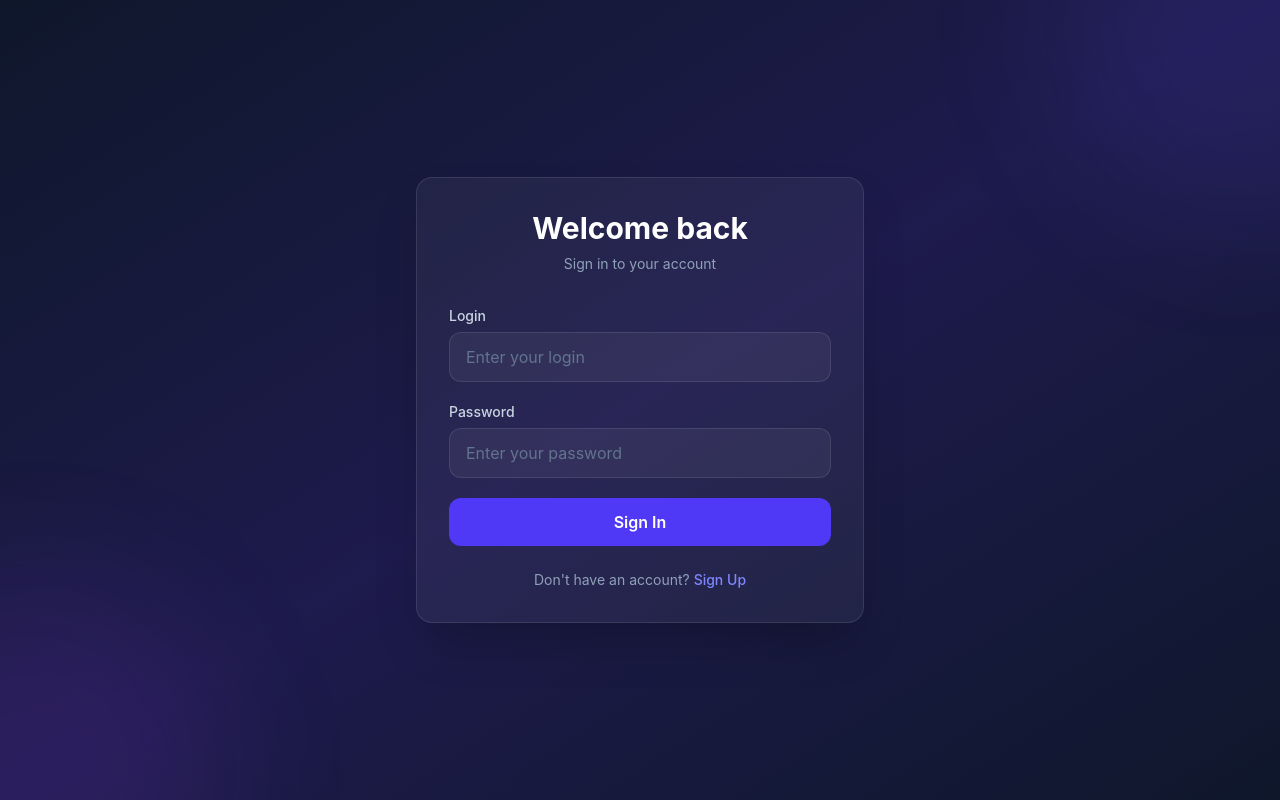
Auth Flow › shows validation errors when submitting empty sign-in form
Expected: the heading "Welcome back" is shown, [532, 210, 748, 246]
Click the button with test id "signin-submit" at (640, 522), box [449, 498, 831, 546]
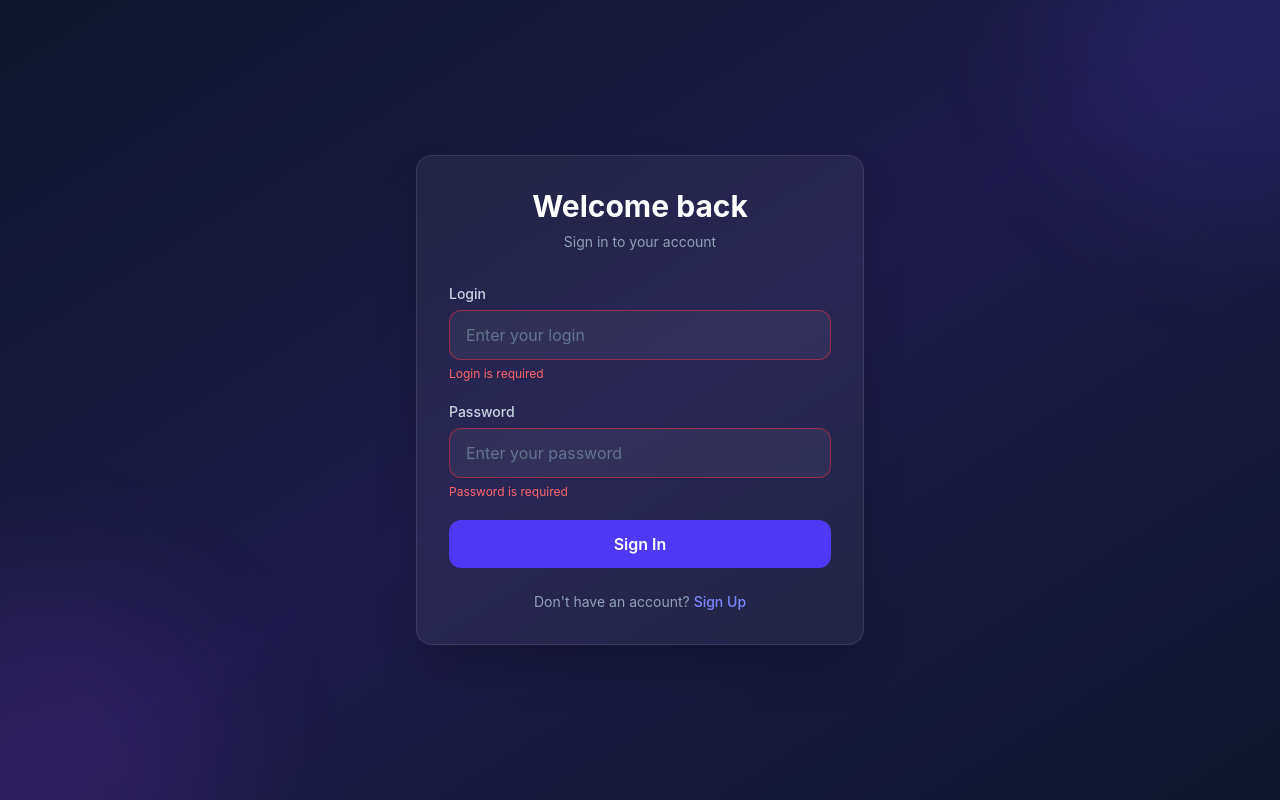
Now the text "Login is required" is shown, box [449, 366, 544, 381]
Now the text "Password is required" is shown, box [449, 484, 568, 499]
